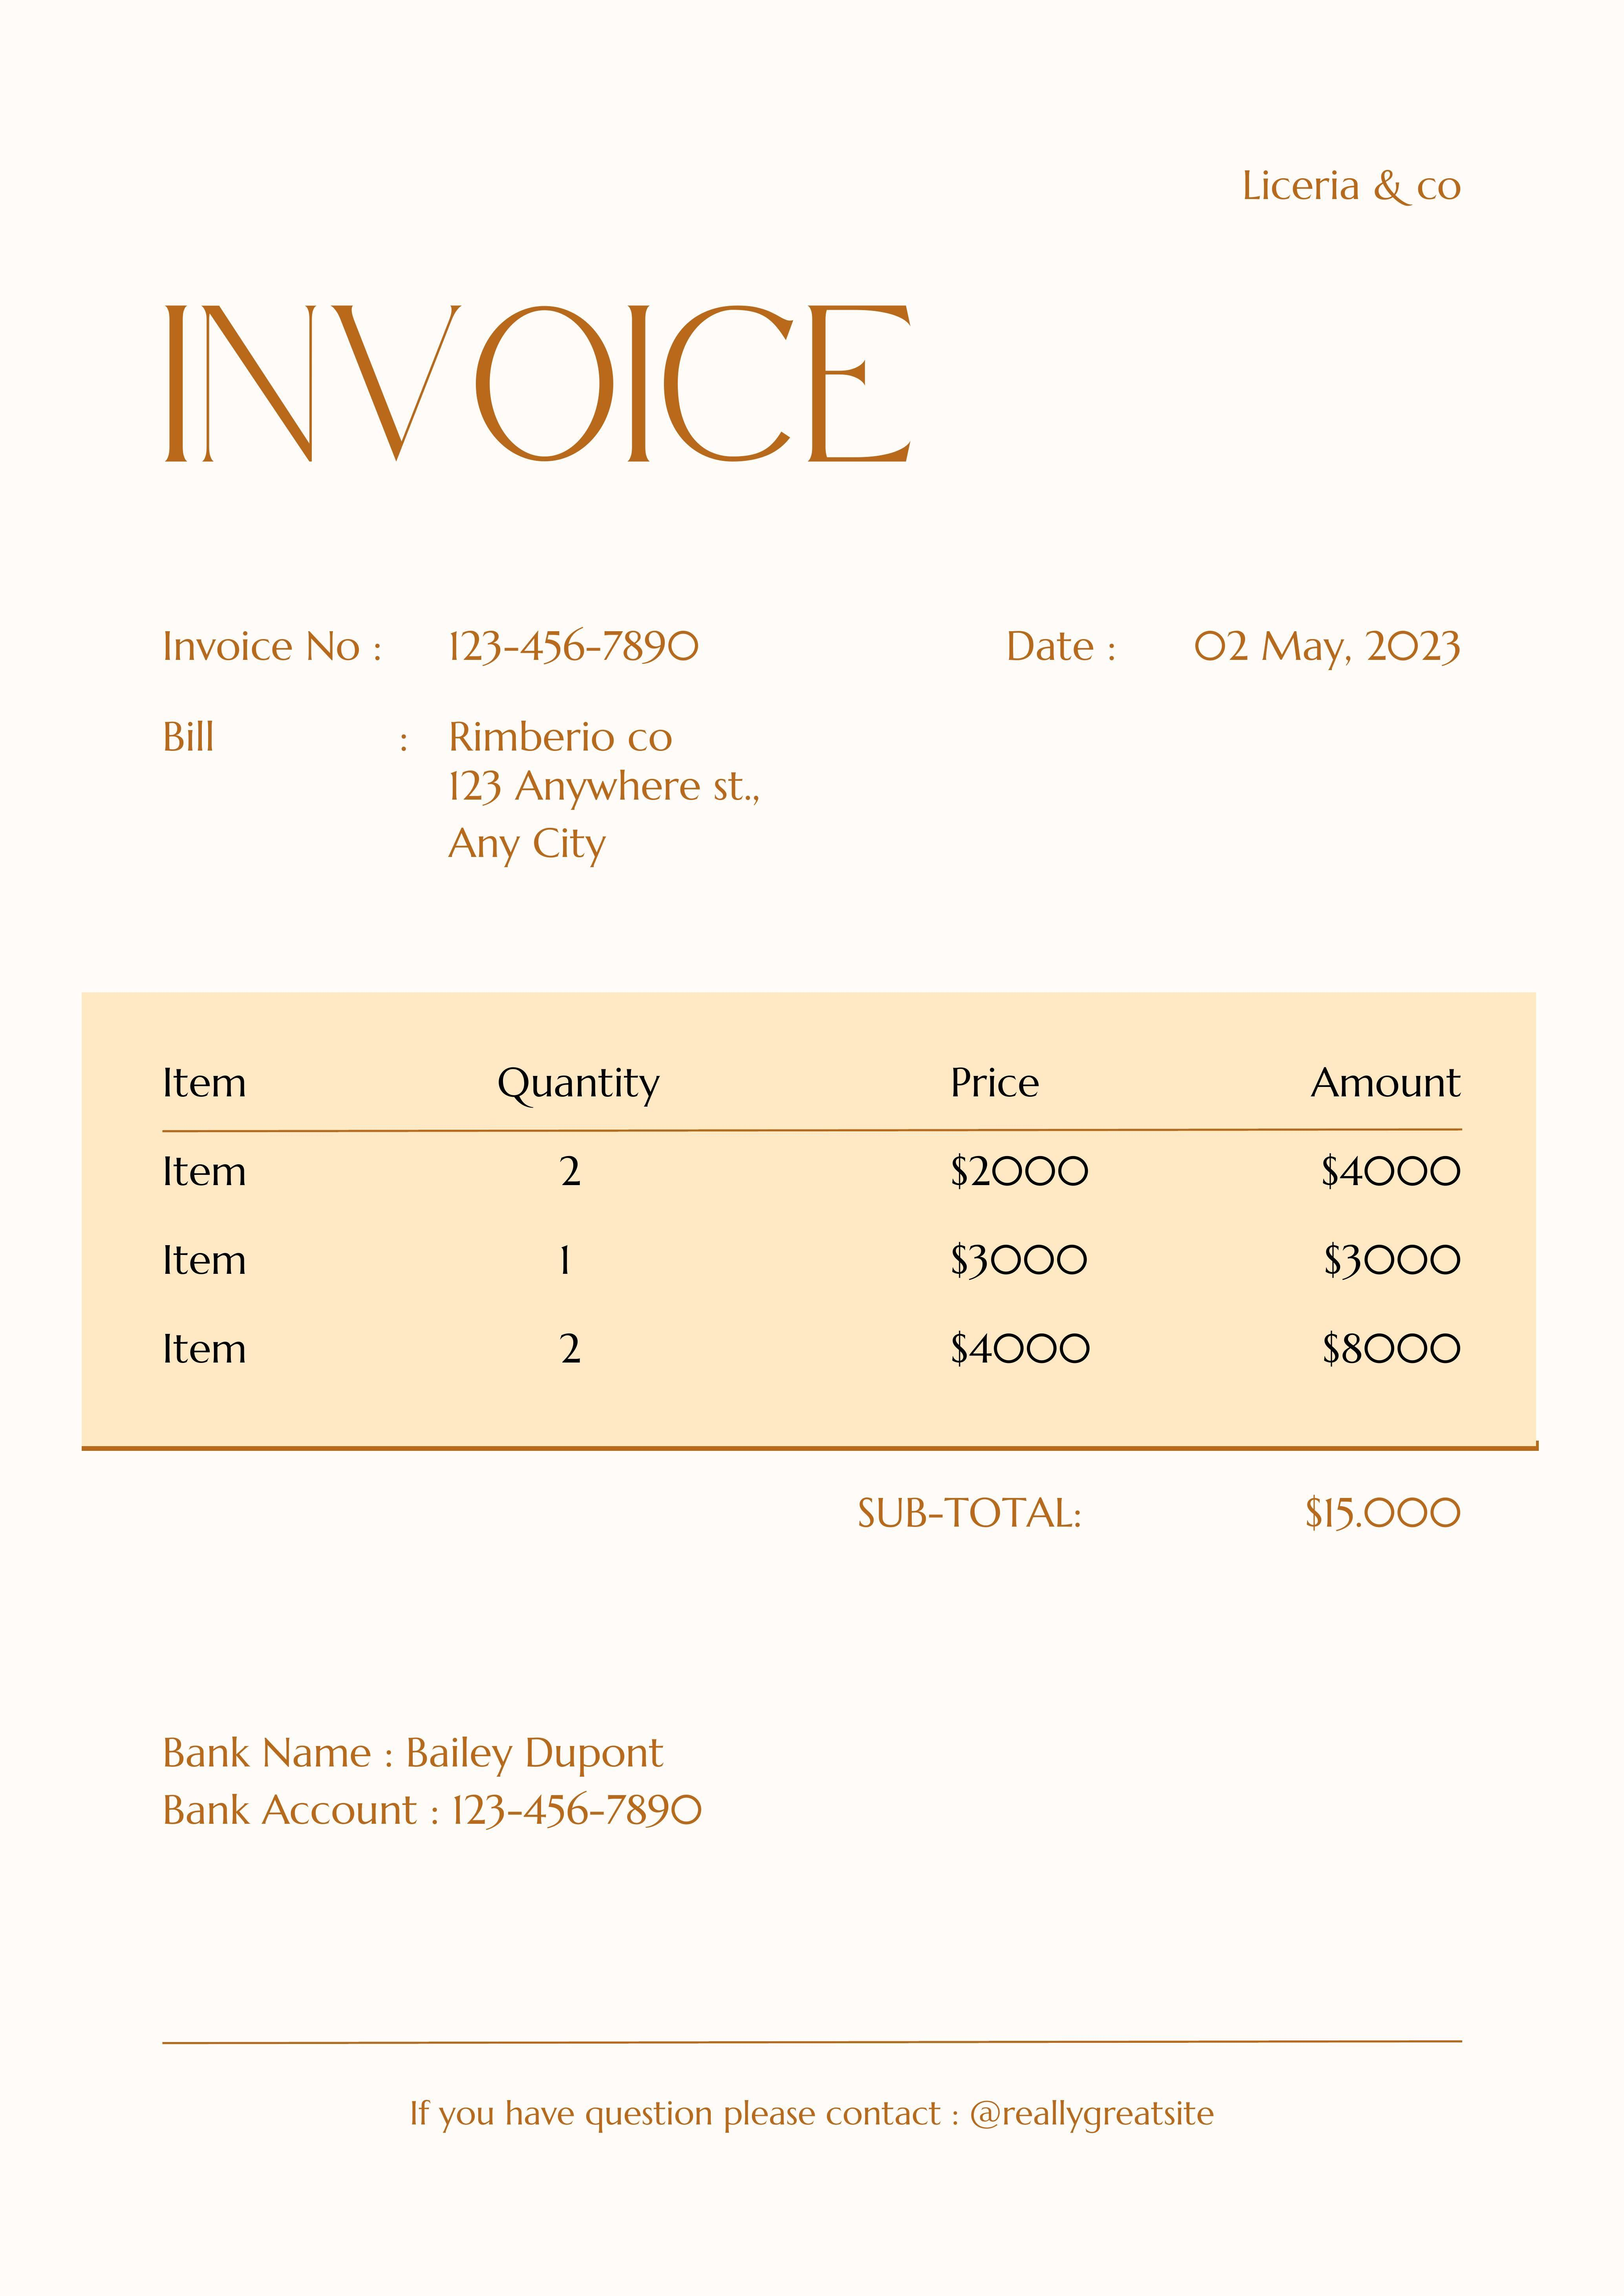ROI: (144, 1039, 1470, 1376), (159, 715, 767, 871), (159, 621, 1470, 677), (159, 1728, 713, 1837), (854, 1488, 1463, 1536), (1238, 162, 1471, 210)
